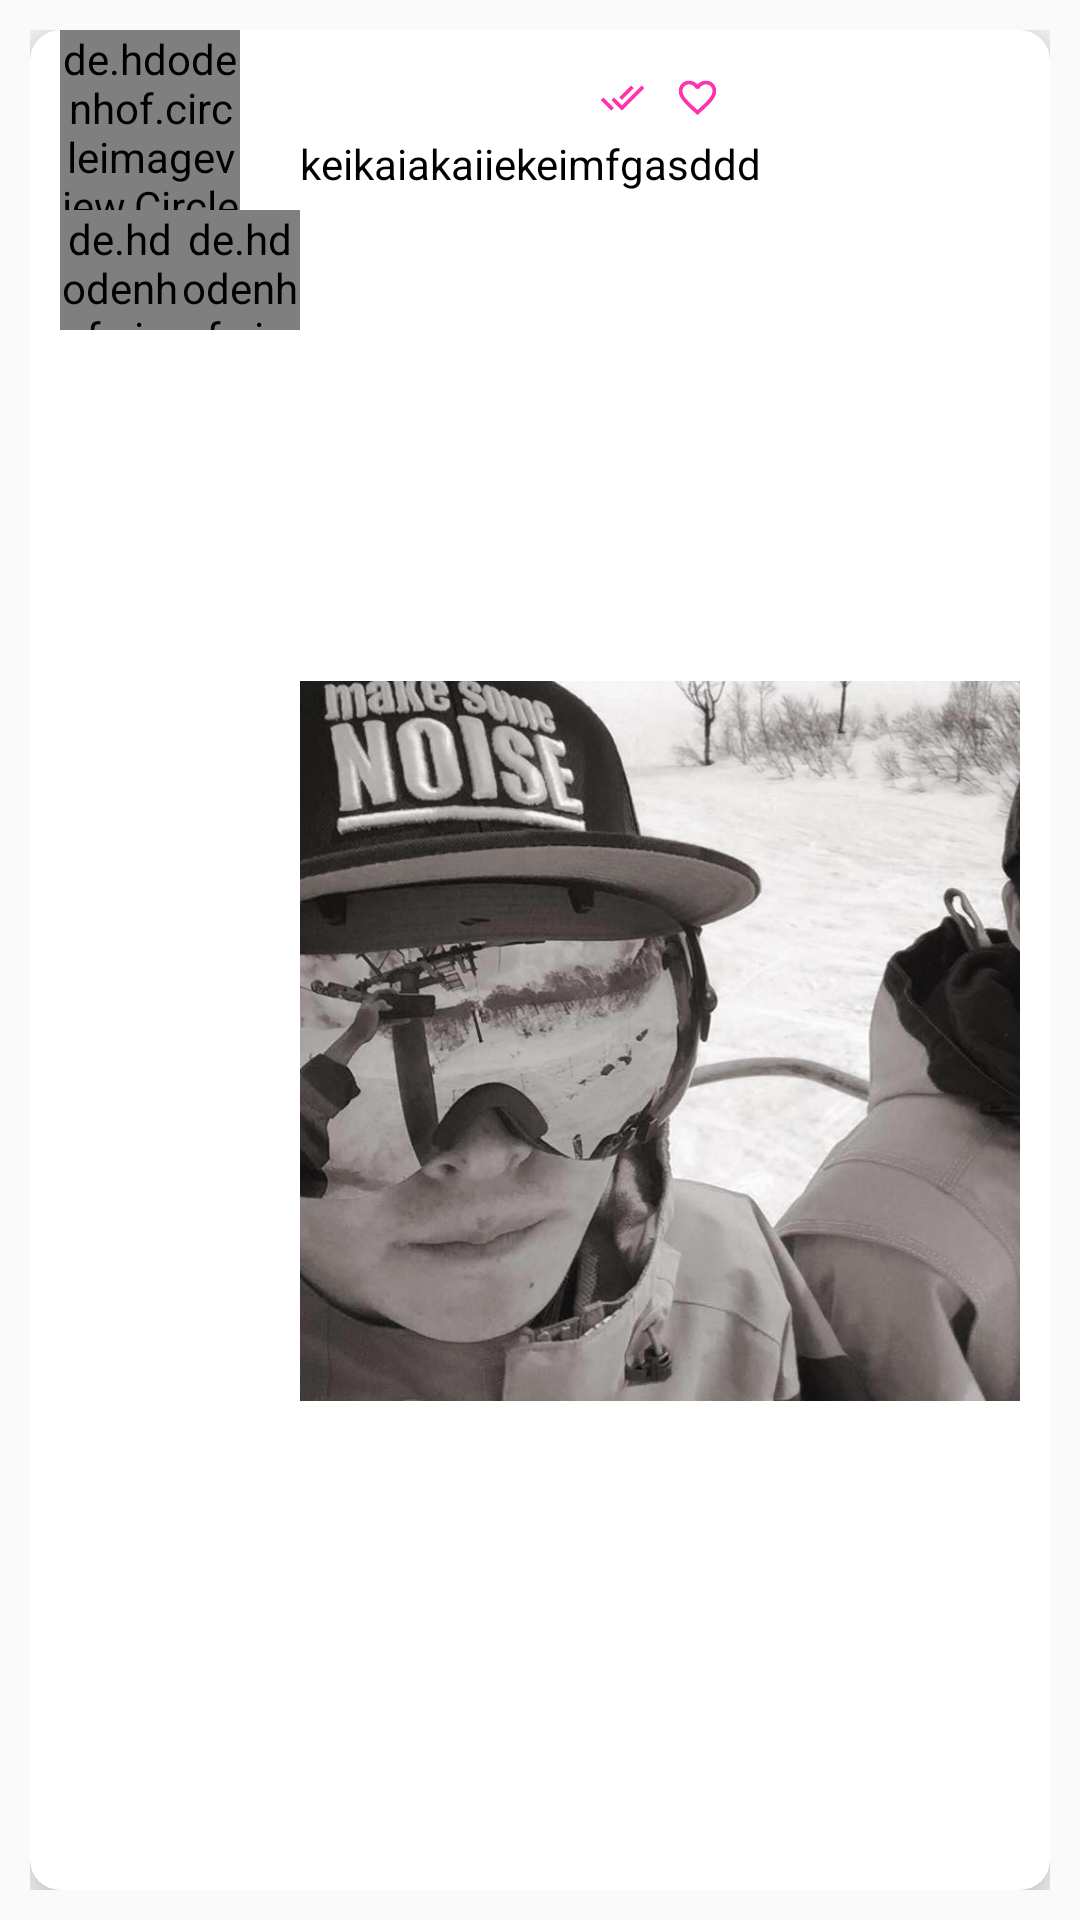

Icons on this 1080px x 1920px Android screen, each with the point to tap as (x=x, y=y):
check cardview: (x=622, y=98)
hart cardview: (x=697, y=97)
